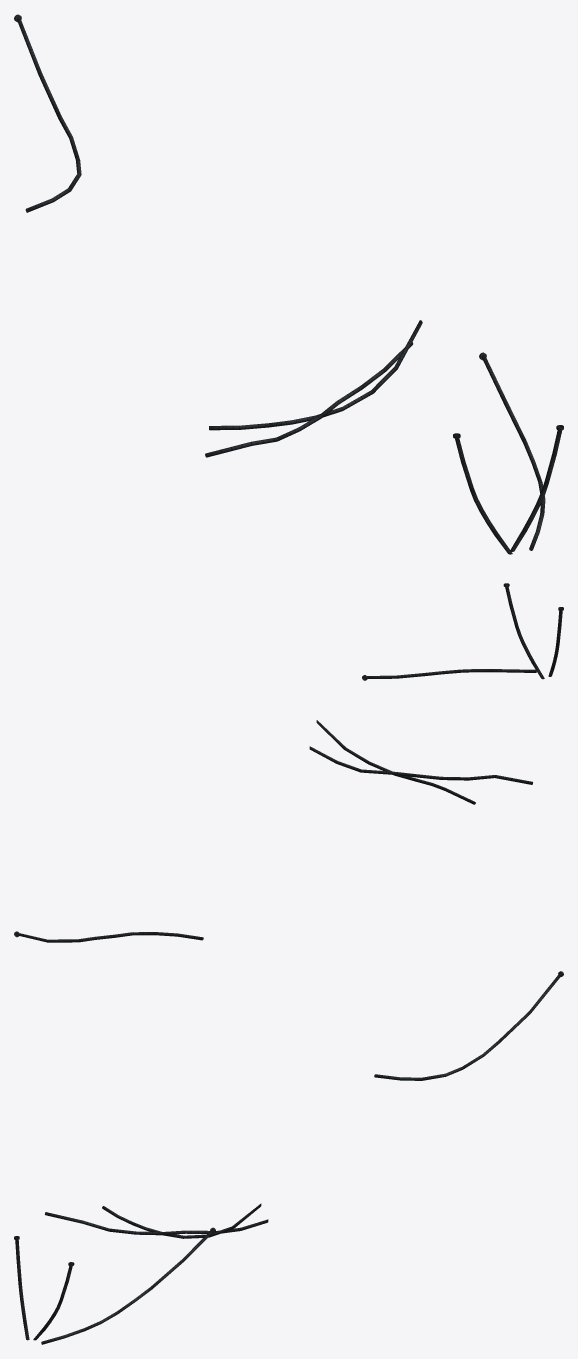
Rendered from sjs_gdao.FBX.
3 views of the same model, one above another, from view 1: azimuth 30°, elevation 25°; view 2: azimuth 150°, elevation 25°; view 3: azimuth 330°, elevation 25° (orthographic). The views are drawn at different scales.
Parts seen in each view (by area): view 1: sjs_gdao; view 2: sjs_gdao; view 3: sjs_gdao.
Part boxes in pixels (bbox=[...]): sjs_gdao: bbox=[14, 14, 563, 554]; sjs_gdao: bbox=[14, 583, 563, 942]; sjs_gdao: bbox=[14, 971, 563, 1344].
Bounding box in the file's own units: 7.67 × 3.32 × 31.65.
